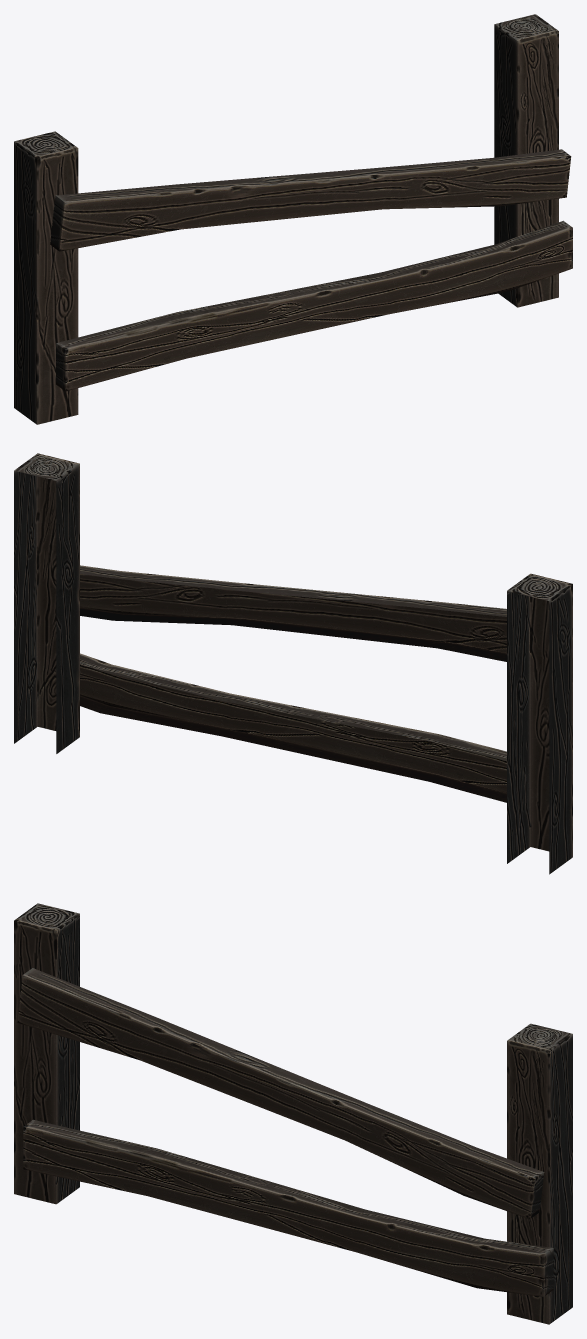
File: fence2.fbx
3 views of the same model, one above another, from view 1: azimuth 30°, elevation 25°; view 2: azimuth 150°, elevation 25°; view 3: azimuth 330°, elevation 25° (orthographic). The views are drawn at different scales.
Parts seen in each view (by area): view 1: fence2; view 2: fence2; view 3: fence2.
Part boxes in pixels (x1,y1,x2,y2): fence2: (14,14,572,424); fence2: (14,453,572,874); fence2: (14,903,572,1324).
Size of the model in its own units: 120 by 58.04 by 14.47.
Materials: 1 (1 with a texture image).
